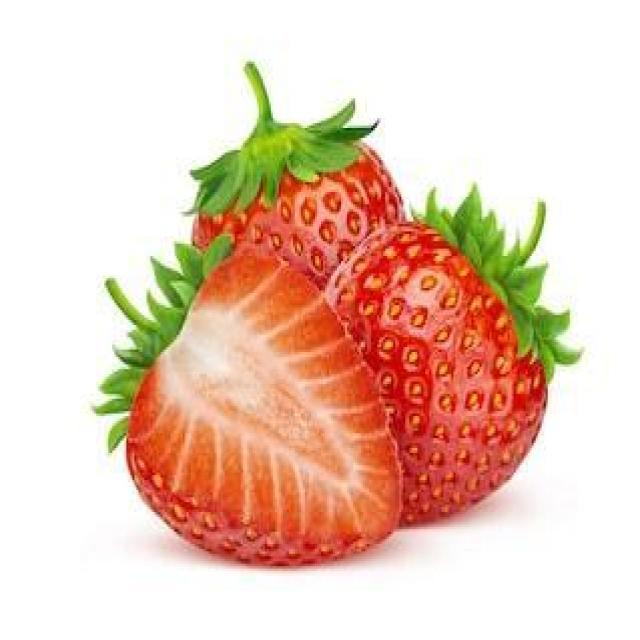strawberry: (104, 265, 332, 573), (406, 206, 550, 529), (186, 137, 404, 228)
